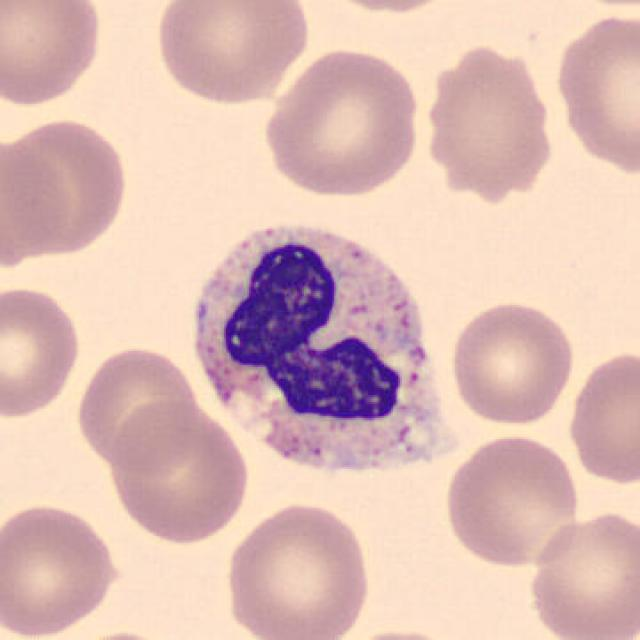Neutrophil: (181, 208, 459, 501)
RBC: (258, 44, 425, 199), (418, 35, 558, 206), (103, 398, 254, 546), (221, 497, 375, 640), (441, 430, 583, 571), (2, 111, 132, 263), (151, 0, 315, 108), (0, 499, 126, 638), (446, 296, 578, 428), (71, 340, 199, 471), (549, 9, 640, 180), (524, 506, 638, 640), (0, 281, 85, 421), (0, 0, 107, 111), (563, 345, 640, 488), (106, 396, 202, 479), (304, 0, 469, 16), (332, 626, 470, 640), (51, 627, 186, 640), (554, 0, 640, 14)
